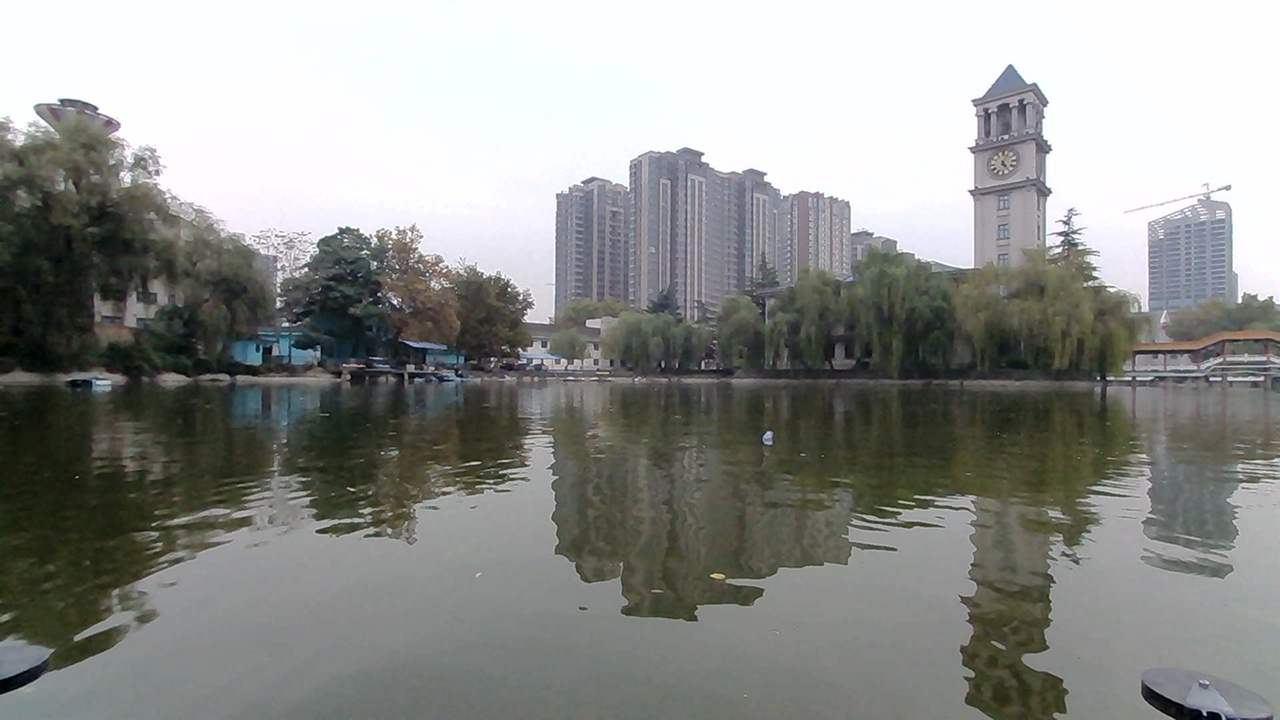bottle: (746, 418, 795, 450)
